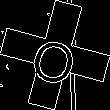O_N: (28, 25, 82, 85)
